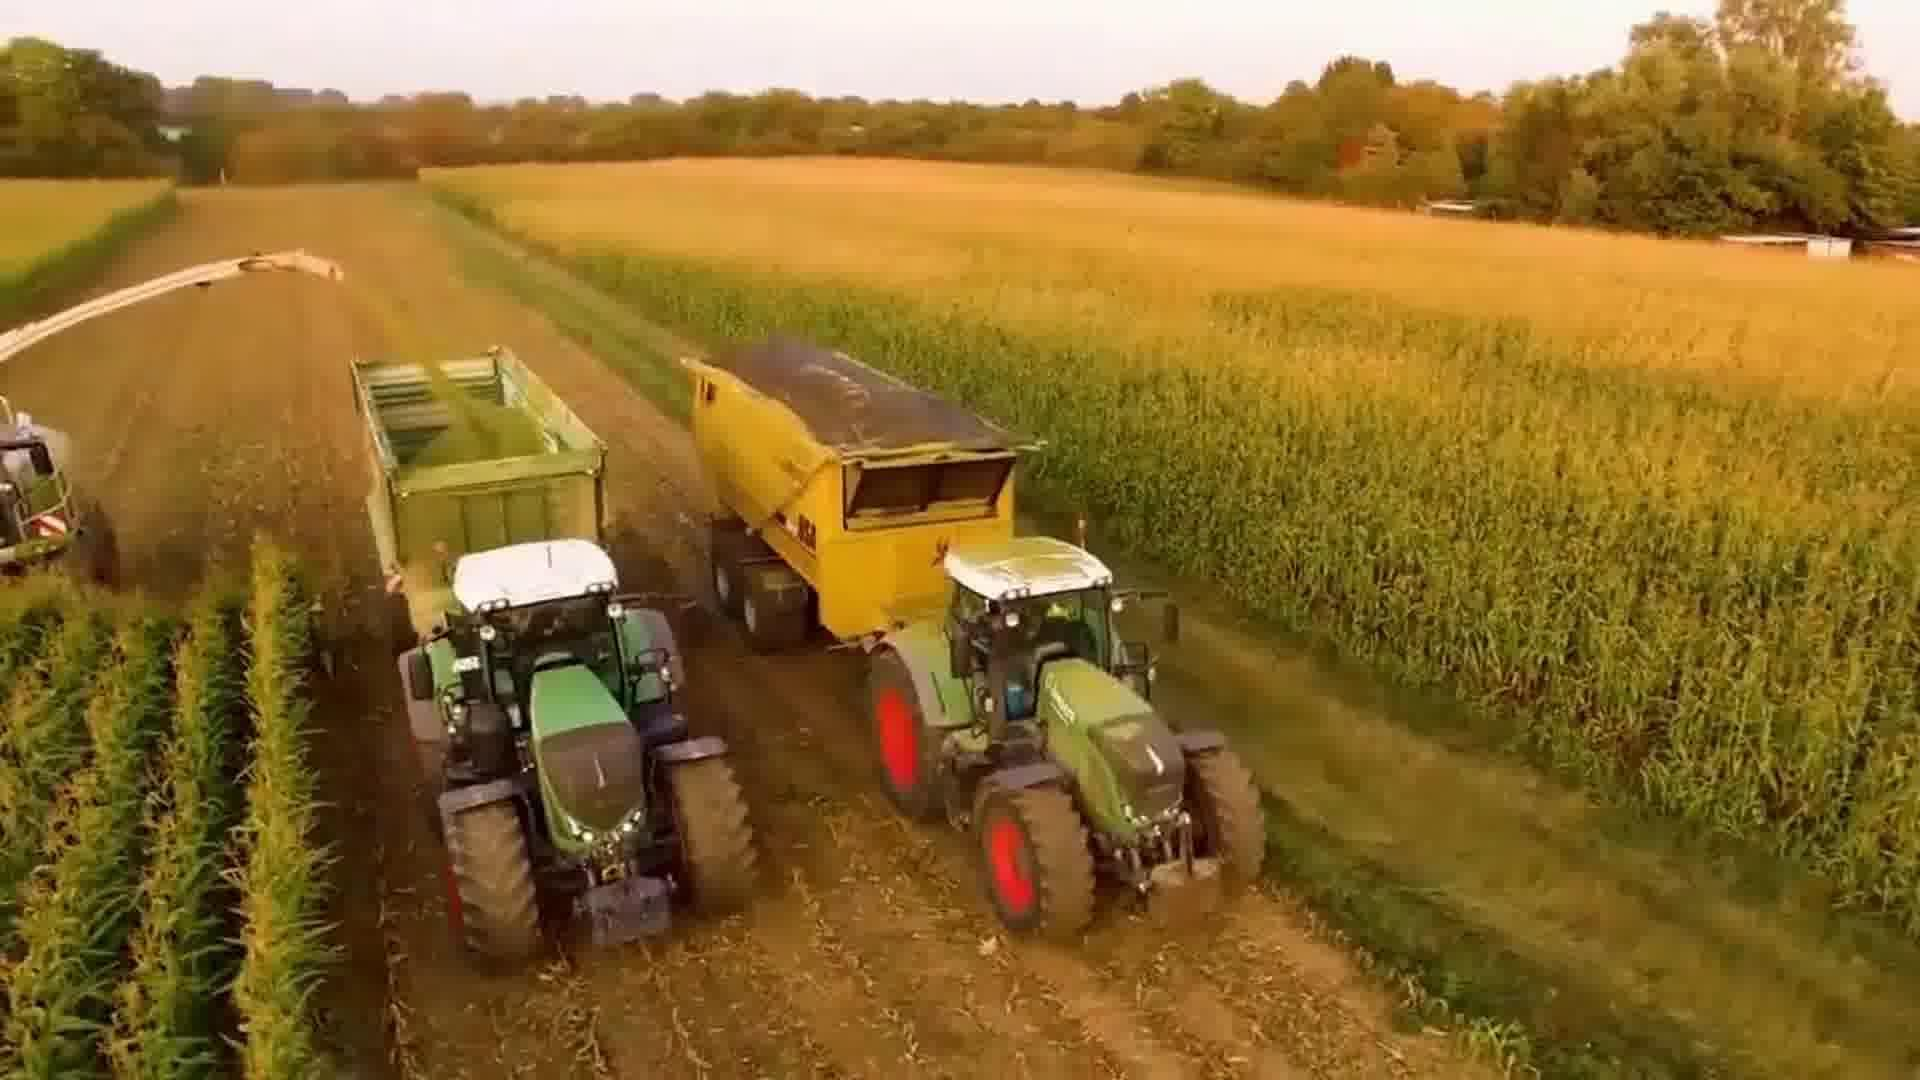combine harvester: (0, 241, 351, 608)
tractor: (855, 522, 1274, 957), (394, 530, 770, 973)
trailer: (676, 327, 1036, 645), (342, 335, 617, 584)
